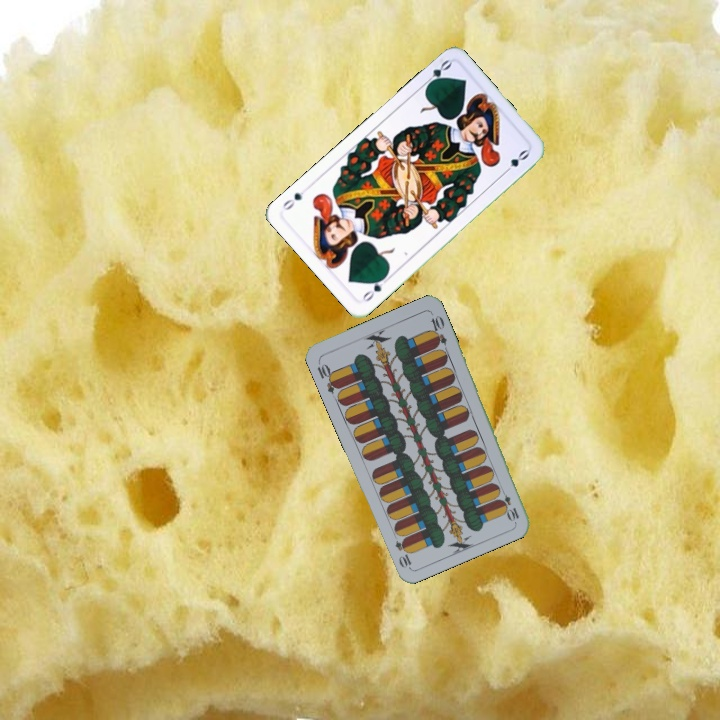E10: (313, 357, 342, 396), (496, 484, 522, 524)
GO: (419, 56, 454, 90), (358, 271, 392, 304)
